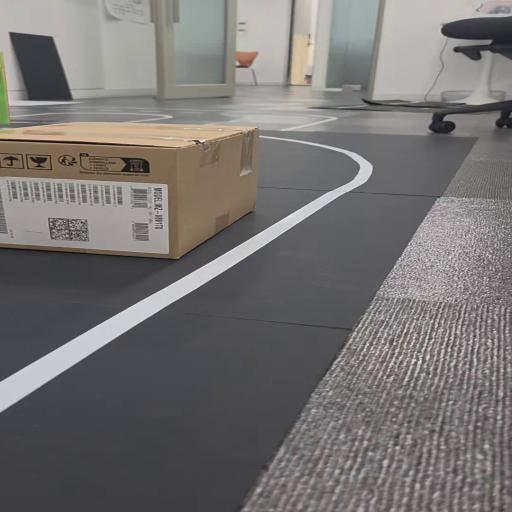Box: (13, 120, 290, 265)
